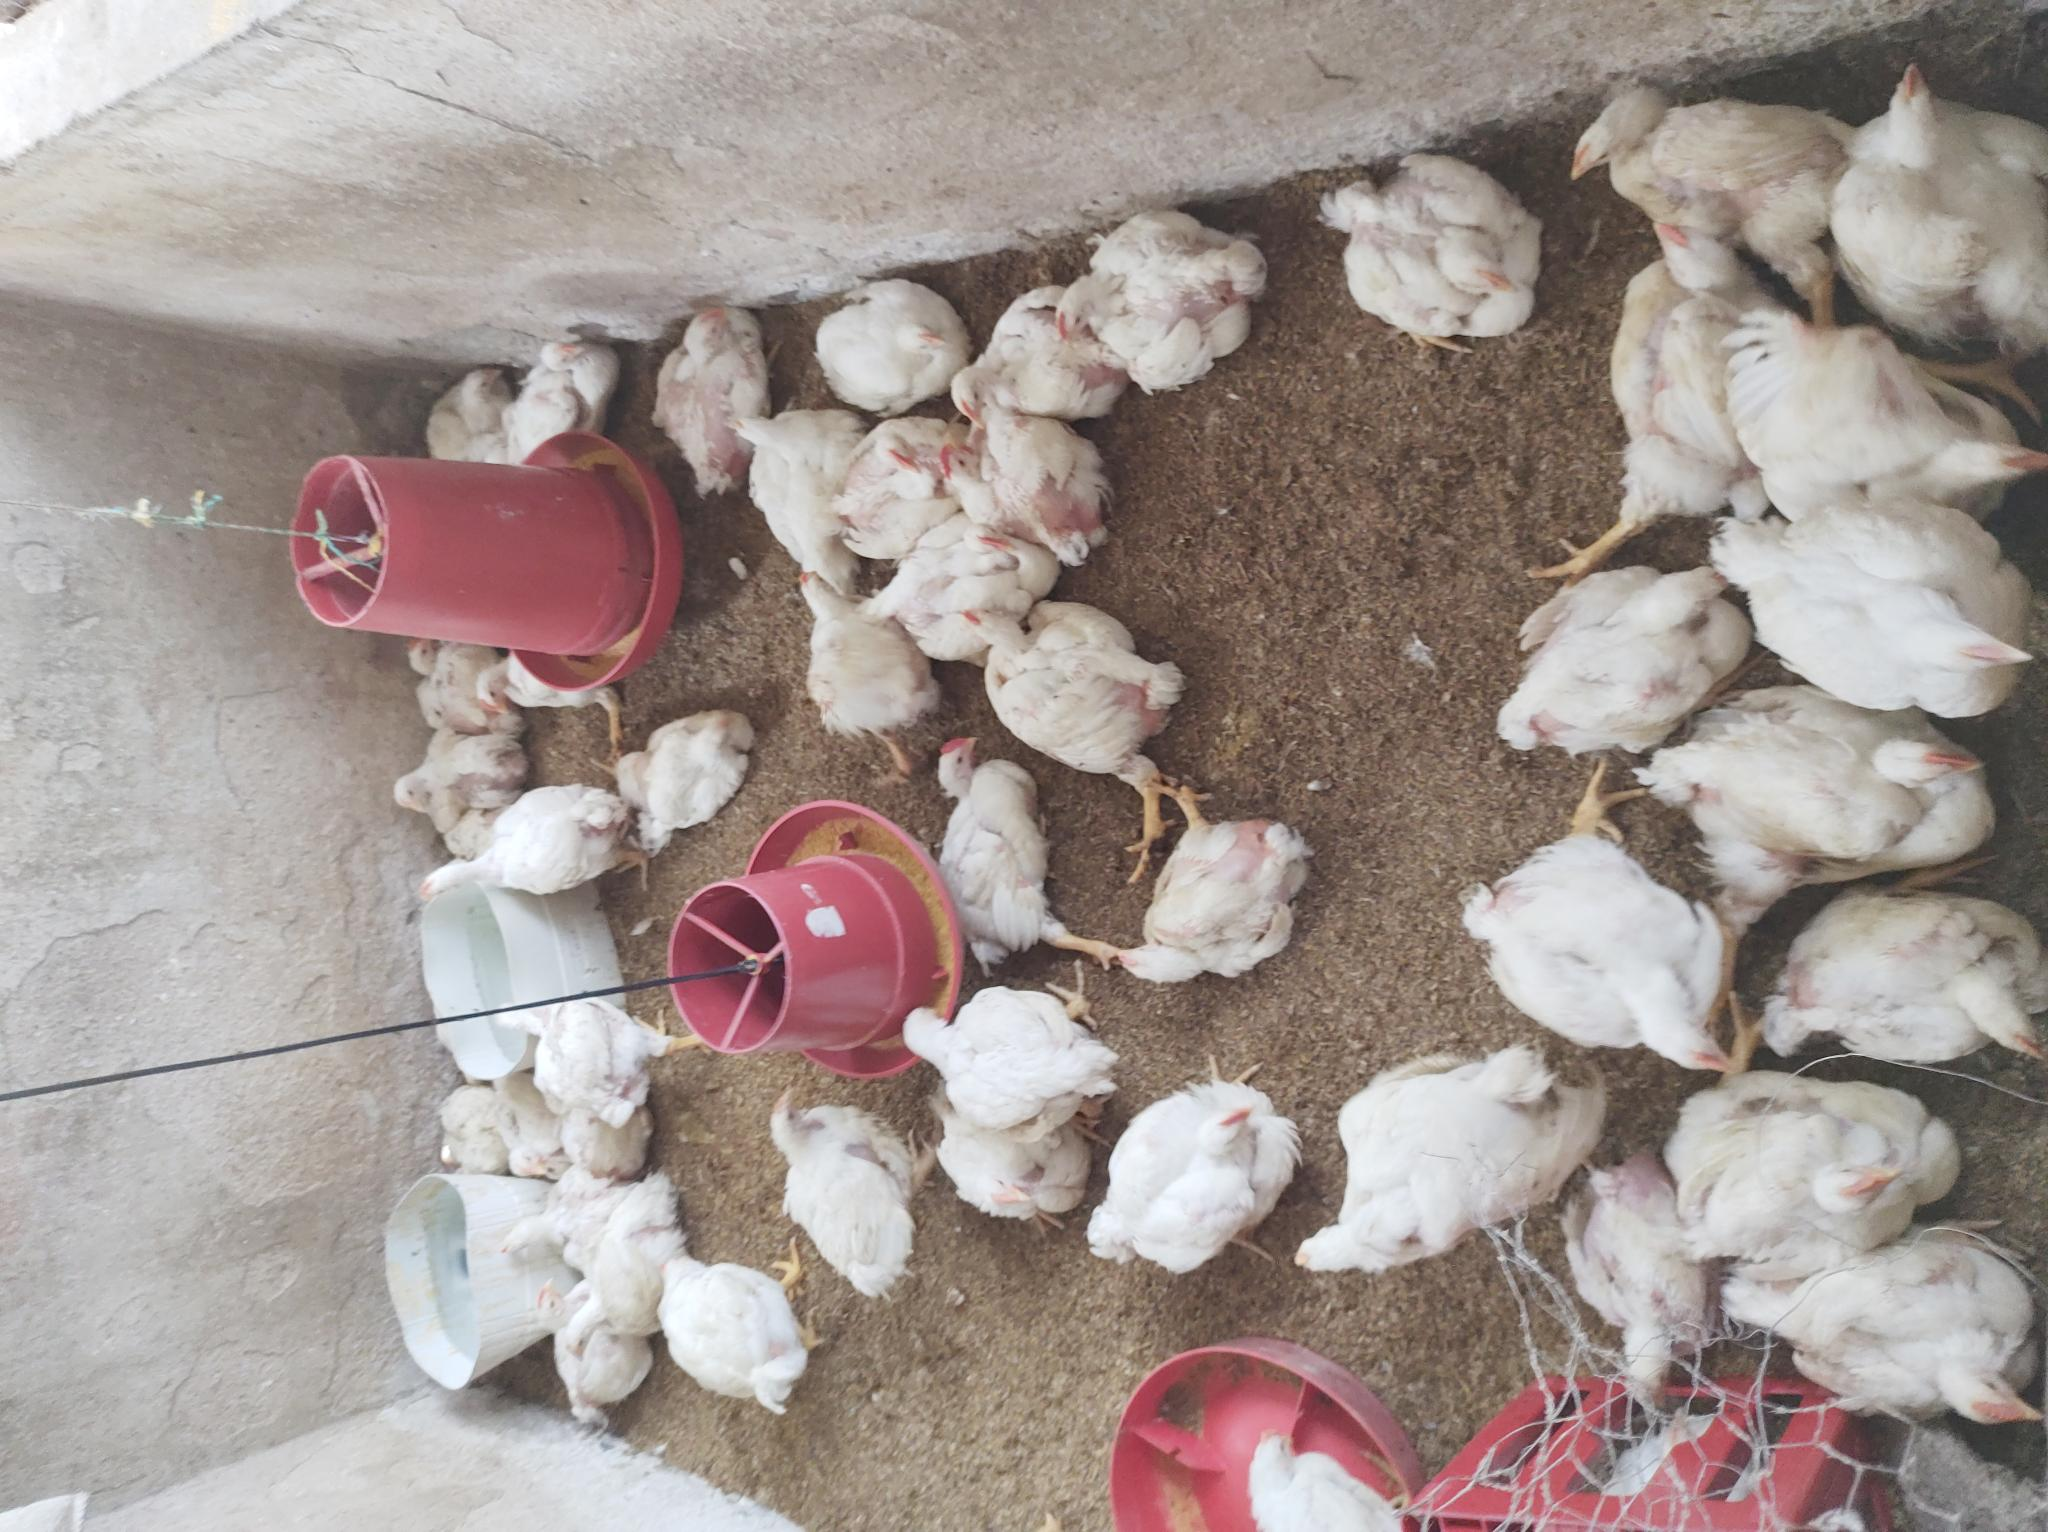Pollos: (1692, 488, 2040, 719), (1284, 1052, 1620, 1286), (1453, 826, 1754, 1080), (1631, 684, 2005, 883), (1729, 1229, 2048, 1439), (1836, 35, 2048, 344), (1736, 306, 2048, 512), (1601, 209, 1799, 533), (1546, 68, 1868, 246), (1680, 1069, 1960, 1268), (1496, 539, 1741, 750), (1770, 888, 2048, 1072), (1313, 158, 1561, 356), (1556, 1144, 1738, 1398), (1078, 1080, 1290, 1287), (954, 594, 1171, 792), (1104, 806, 1313, 1003), (1047, 208, 1266, 393), (756, 1085, 928, 1307), (923, 729, 1059, 961), (405, 787, 631, 916), (898, 988, 1112, 1122), (783, 563, 940, 740), (645, 1250, 809, 1415), (936, 410, 1120, 555), (561, 1170, 692, 1369), (928, 1098, 1112, 1238), (848, 518, 1057, 640), (800, 264, 964, 410), (491, 996, 669, 1130), (943, 286, 1128, 415), (650, 304, 782, 483), (722, 407, 864, 568), (835, 415, 967, 563), (1239, 1426, 1411, 1532), (524, 1278, 647, 1426), (459, 653, 629, 752), (635, 706, 748, 838), (496, 341, 615, 462), (513, 1080, 650, 1183), (372, 727, 531, 809), (426, 1080, 563, 1175), (402, 636, 524, 735), (496, 1165, 608, 1271), (413, 367, 531, 463)
